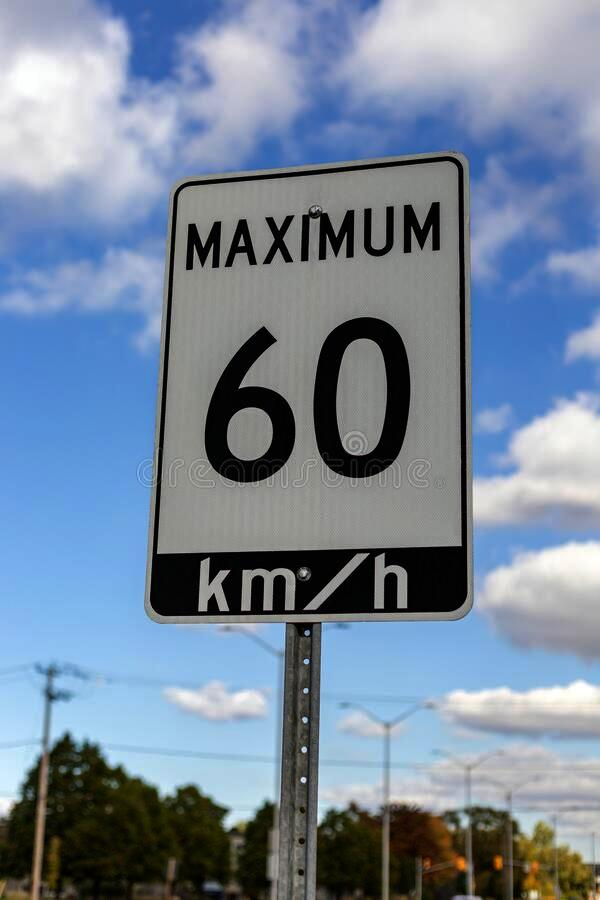speed limit sign: (142, 148, 470, 622)
